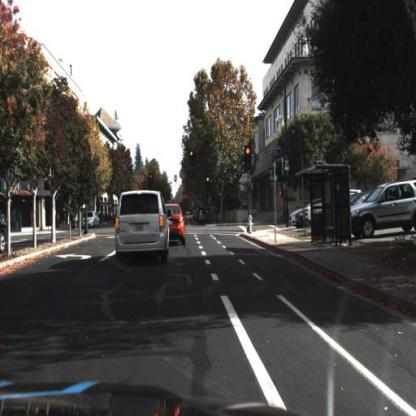car: (112, 184, 174, 265), (348, 178, 416, 242), (348, 180, 416, 244), (166, 199, 188, 253), (77, 209, 98, 233), (80, 210, 102, 230)
trafficLight-Red: (243, 144, 253, 172), (244, 145, 253, 171), (205, 174, 214, 196), (189, 146, 196, 171), (206, 175, 211, 189), (190, 151, 195, 164)
trafficLight-RedLeft: (148, 173, 155, 190), (149, 171, 154, 188)
